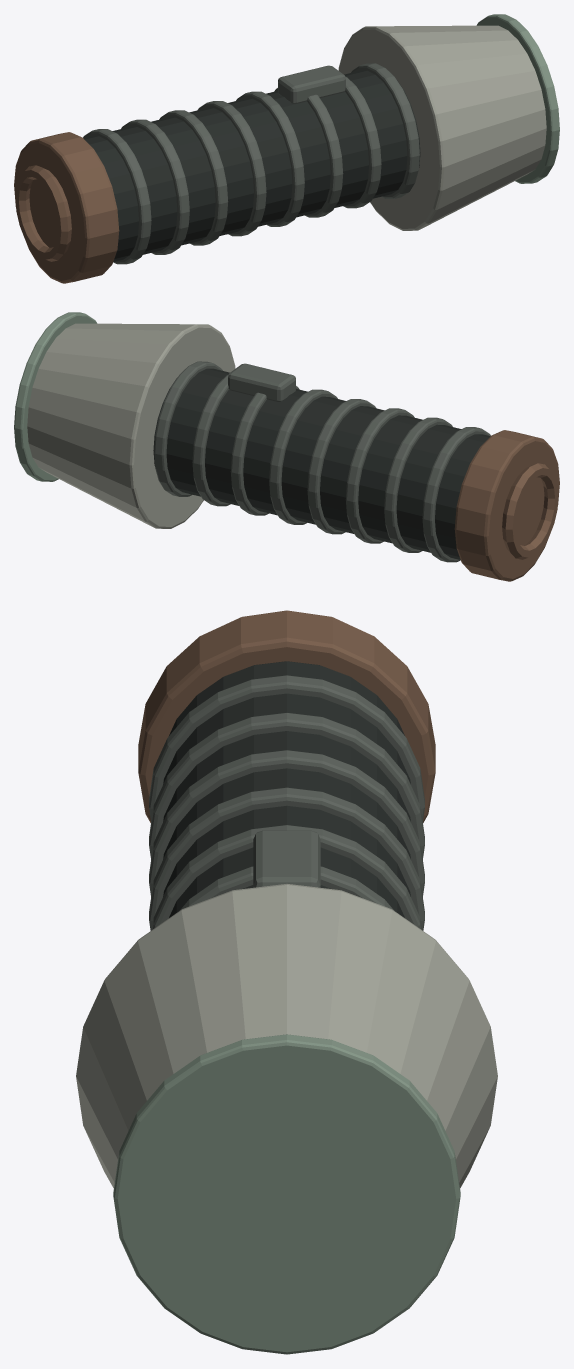
The model's file is flashlight.glb.
3 renders of one model, top to bottom at view 1: azimuth 30°, elevation 25°; view 2: azimuth 150°, elevation 25°; view 3: azimuth 270°, elevation 25°, orthographic. The views are drawn at different scales.
Visible parts, largest first — view 1: flashlight; view 2: flashlight; view 3: flashlight.
Boxes of the visible parts, bbox=[...] form: flashlight: bbox=[14, 14, 559, 283]; flashlight: bbox=[14, 312, 559, 581]; flashlight: bbox=[76, 610, 497, 1354].
Size of the model in its own units: 0.3125 by 0.1192 by 0.1192.
